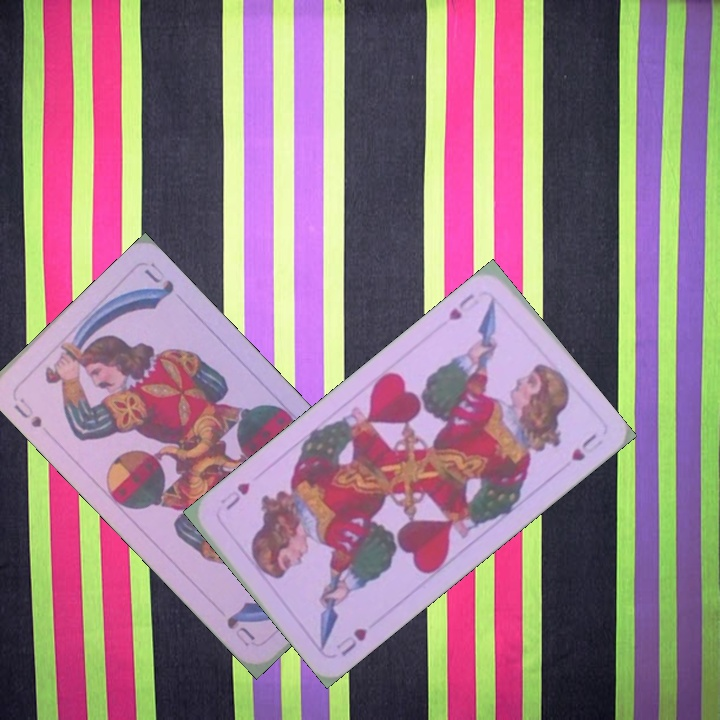HU: (332, 623, 370, 660), (444, 289, 477, 323)
SU: (10, 393, 45, 430)
